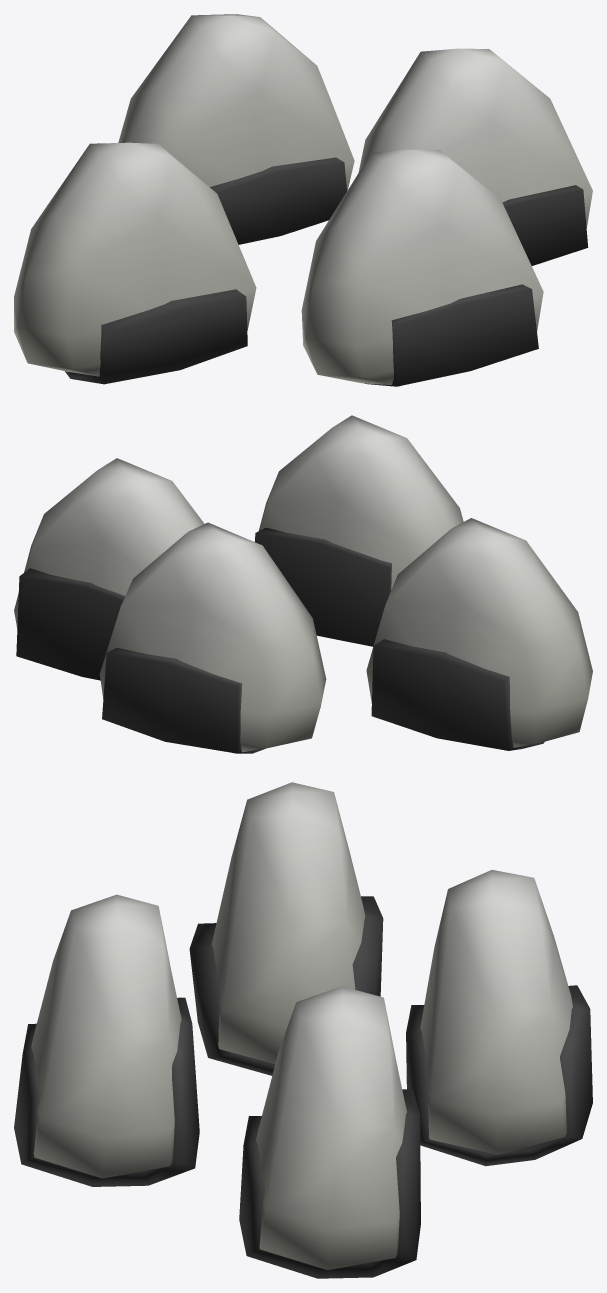
File: おにぎり.glb
3 views of the same model, one above another, from view 1: azimuth 30°, elevation 25°; view 2: azimuth 150°, elevation 25°; view 3: azimuth 270°, elevation 25° (orthographic). The views are drawn at different scales.
Parts seen in each view (by area): view 1: SM_Food_General_02; view 2: SM_Food_General_02; view 3: SM_Food_General_02.
Boxes of the visible parts, x1,y1,x2,y2 form: SM_Food_General_02: [14, 14, 592, 386]; SM_Food_General_02: [14, 415, 592, 753]; SM_Food_General_02: [14, 782, 592, 1278].
Size of the model in its own units: 0.4616 by 0.1818 by 0.3551.
Materials: 1 (1 with a texture image).
